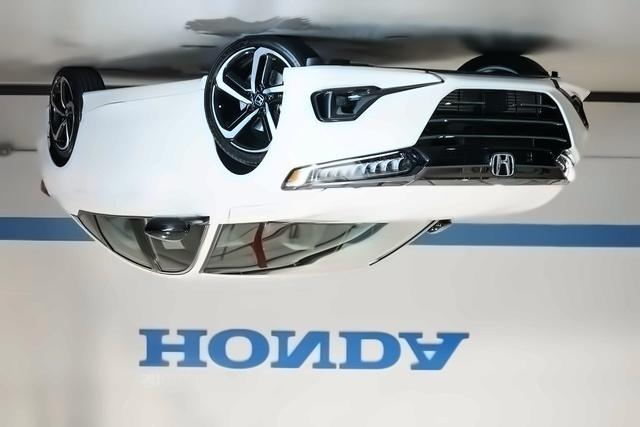Car hood: (225, 181, 567, 224)
Fender - -F-L-: (199, 84, 283, 228)
Fender - -R-L-: (50, 92, 86, 212)
Front bumper: (275, 62, 598, 152)
Headlight - -L-: (278, 143, 433, 196)
Headlight - -R-: (550, 142, 586, 187)
Passenger-s door - -F-L-: (137, 94, 203, 277)
Passenger-s door - -R-L-: (75, 92, 145, 277)
Rear bumper: (34, 129, 61, 177)
Rear light - -L-: (35, 171, 56, 202)
Side bumper - -L-: (72, 71, 213, 118)
Side mirror - -L-: (141, 210, 201, 247)
Side mirror - -R-: (425, 214, 457, 238)
